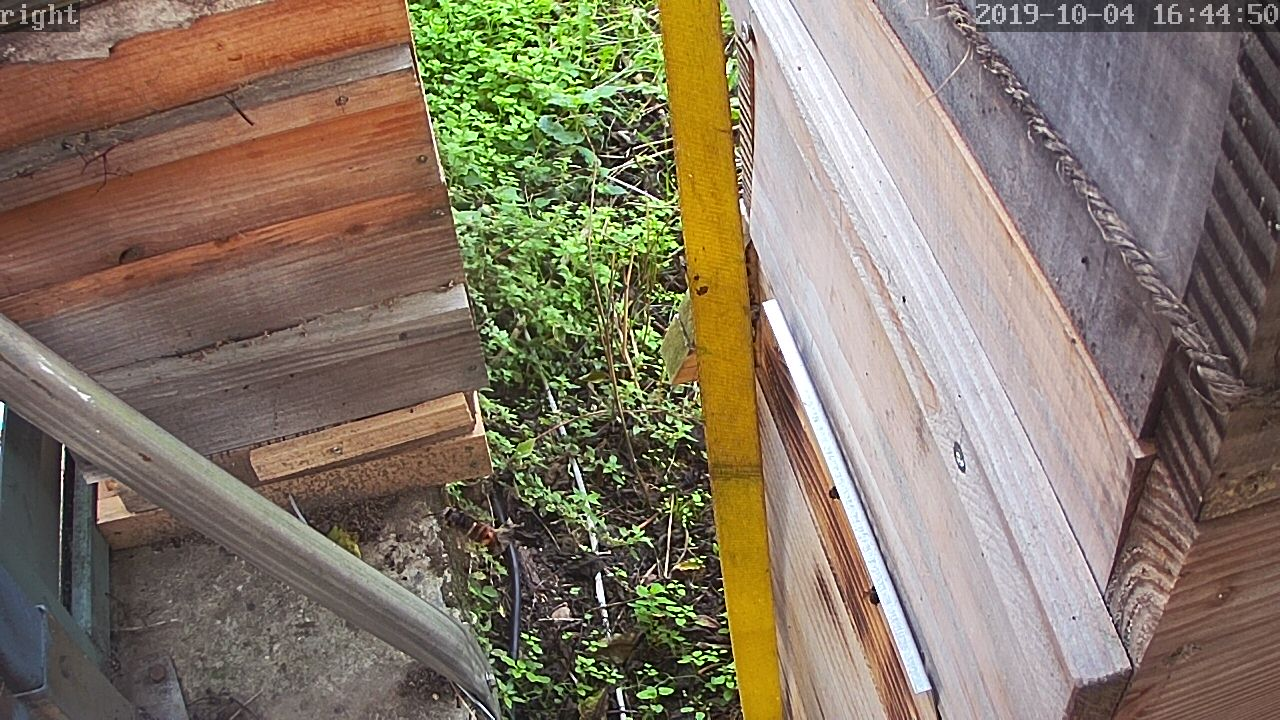bee: (864, 585, 883, 609)
hornet: (437, 495, 505, 555)
